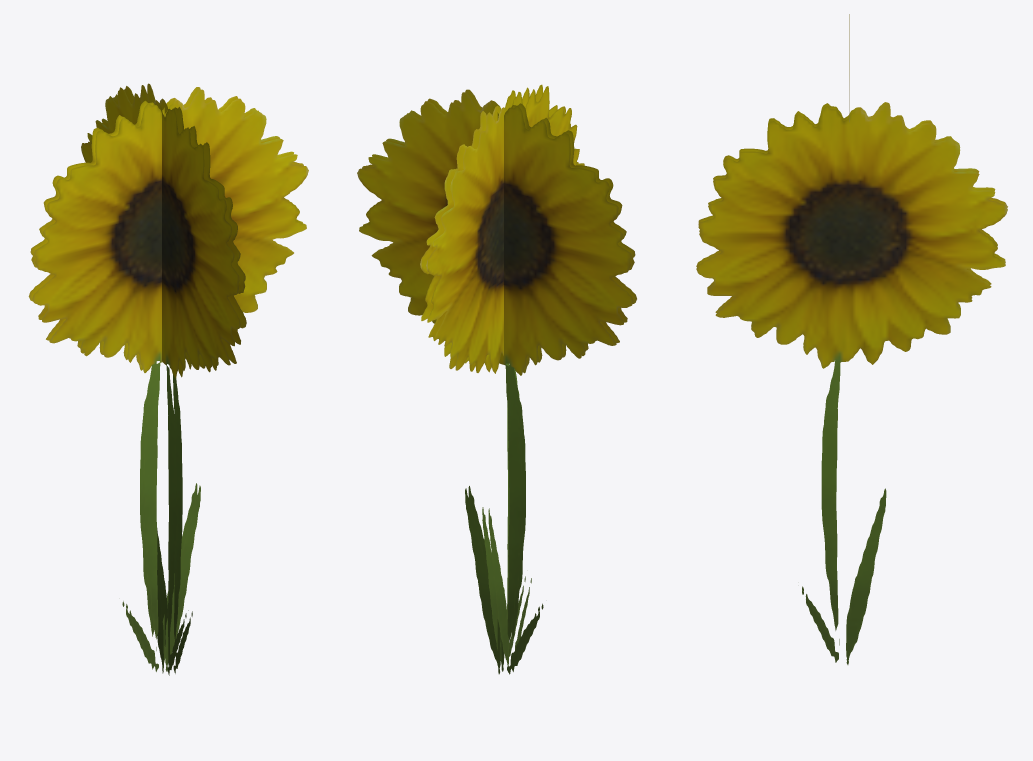
File: Flower2.fbx
The picture shows the model from 3 angles, left to right: view 1: azimuth 30°, elevation 25°; view 2: azimuth 150°, elevation 25°; view 3: azimuth 270°, elevation 25°; orthographic projection. The views are drawn at different scales.
Visible parts, largest first — view 1: n_grass_diff_0_22.001; view 2: n_grass_diff_0_22.001; view 3: n_grass_diff_0_22.001.
Part boxes in pixels (left/top/right/bottom): n_grass_diff_0_22.001: left=28, top=83, right=308, bottom=675; n_grass_diff_0_22.001: left=357, top=84, right=636, bottom=674; n_grass_diff_0_22.001: left=696, top=14, right=1007, bottom=664.
Bounding box in the file's own units: 49.1 × 94.27 × 49.1.
